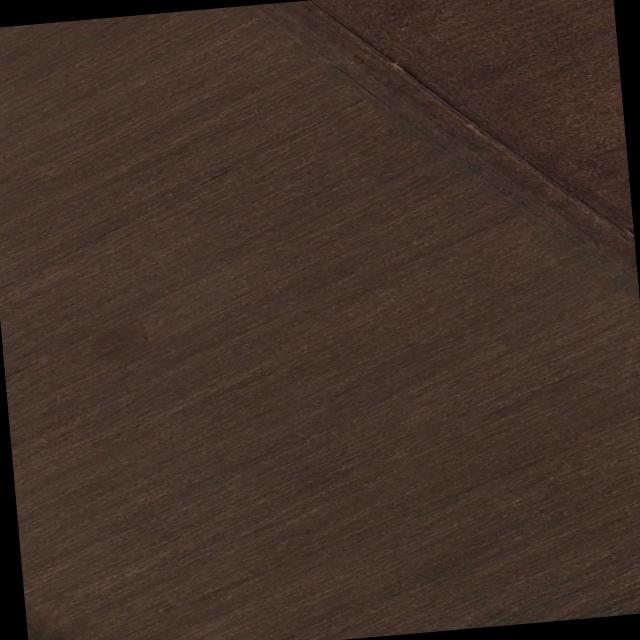bare-soil: (0, 1, 640, 640), (284, 0, 635, 262)
